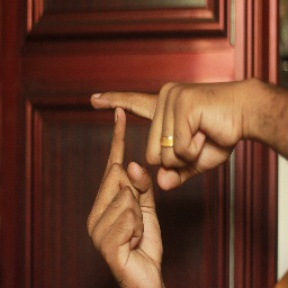T: (74, 77, 181, 212)
